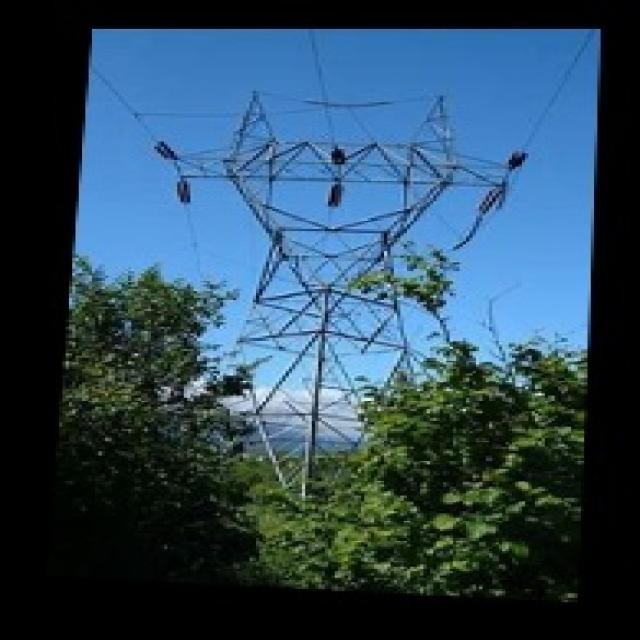utility poles: (318, 249, 514, 464), (148, 270, 294, 493)
